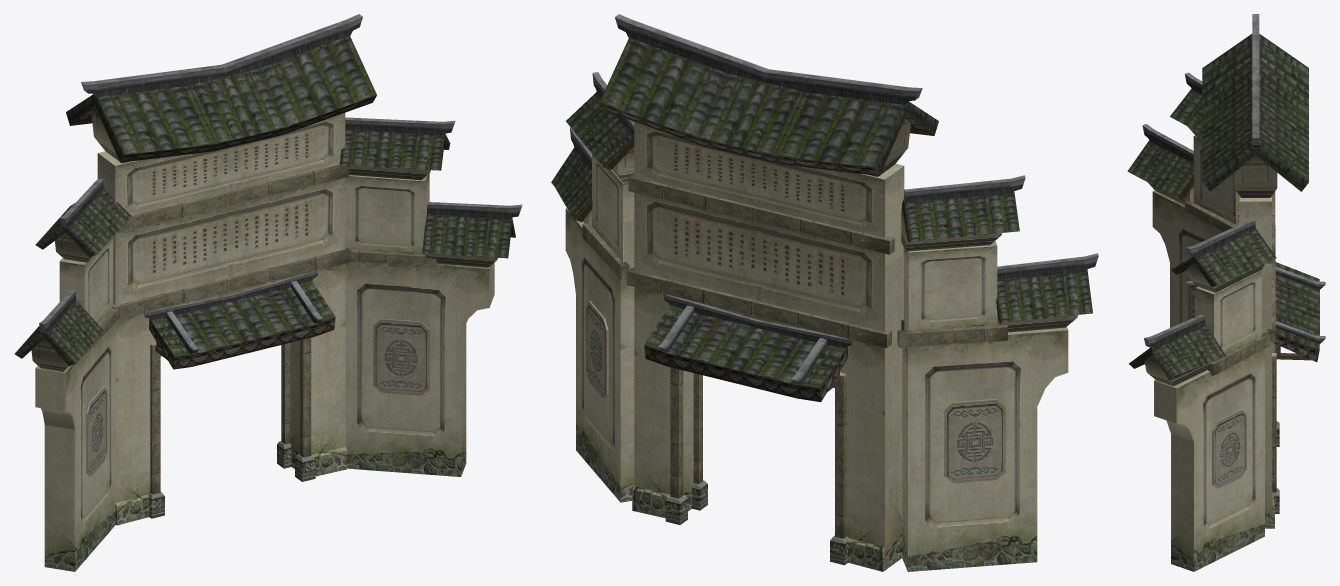
Rendered from shipaifang_dw_23.fbx.
3 renders of one model, left to right at view 1: azimuth 30°, elevation 25°; view 2: azimuth 150°, elevation 25°; view 3: azimuth 270°, elevation 25°, orthographic. The views are drawn at different scales.
Parts seen in each view (by area): view 1: shipaifang_dw_20; view 2: shipaifang_dw_20; view 3: shipaifang_dw_20.
Part boxes in pixels (left/top/right/bottom): shipaifang_dw_20: left=14, top=14, right=522, bottom=571; shipaifang_dw_20: left=551, top=14, right=1098, bottom=571; shipaifang_dw_20: left=1127, top=14, right=1325, bottom=571.
Size of what is drawn, in the model's own units: 2451 by 2067 by 924.
